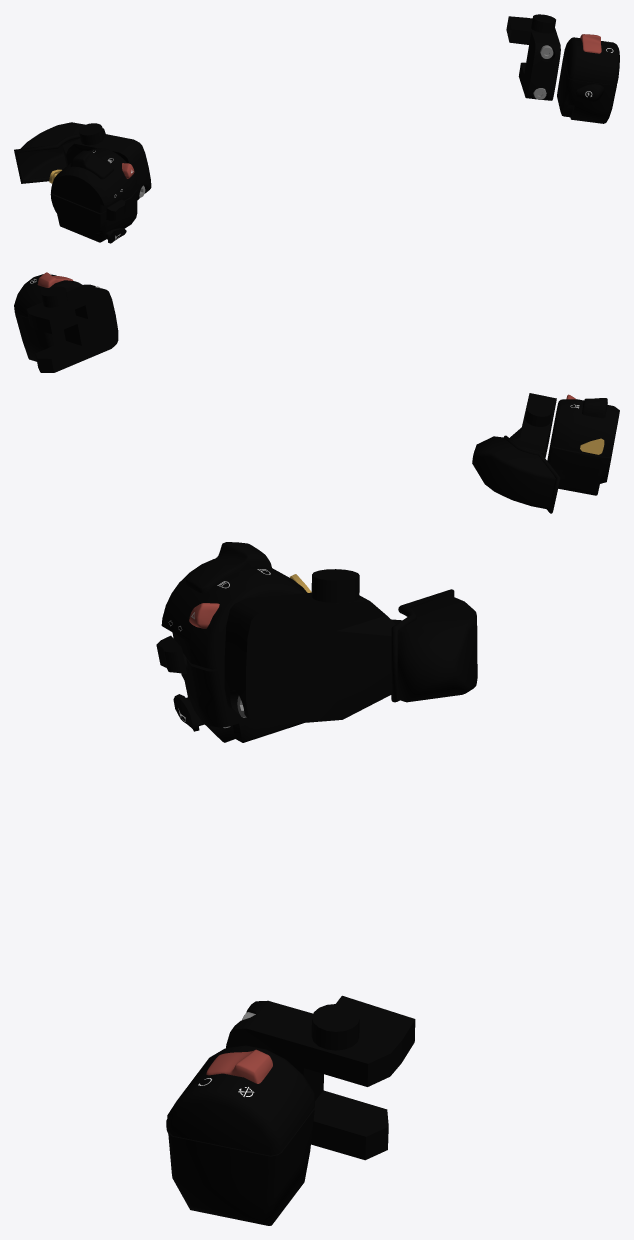
File: SwitchAssemb_BOSS.glb
The picture shows the model from 3 angles, top to bottom: view 1: azimuth 30°, elevation 25°; view 2: azimuth 150°, elevation 25°; view 3: azimuth 270°, elevation 25°; orthographic projection. The views are drawn at different scales.
Parts seen in each view (by area): view 1: ControlBody_R_ALMN.001, ClusterFrame_R_ALMN.001, ControlAssem_LT_ALMN.001, ClutchCover.001, ClusterFrame_L_ALMN.001, ControlAssem_LB_ALMN.001, HeadlightButton.001; view 2: ClusterFrame_R_ALMN.001, ClutchCover.001, ControlAssem_LT_ALMN.001, ControlBody_R_ALMN.001, ControlAssem_LB_ALMN.001, ClusterFrame_L_ALMN.001, HeadlightButton.001; view 3: ClusterFrame_L_ALMN.001, ControlBody_R_ALMN.001, ClusterFrame_R_ALMN.001, ClutchCover.001, ControlAssem_LT_ALMN.001, ControlAssem_LB_ALMN.001, HeadlightButton.001.
Boxes of the visible parts, <box> form: ControlBody_R_ALMN.001: <box>557,34,619,123</box>; ClusterFrame_R_ALMN.001: <box>506,14,560,100</box>; ControlAssem_LT_ALMN.001: <box>51,148,137,213</box>; ClutchCover.001: <box>14,122,105,183</box>; ClusterFrame_L_ALMN.001: <box>62,123,151,200</box>; ControlAssem_LB_ALMN.001: <box>50,189,137,242</box>; HeadlightButton.001: <box>70,150,113,179</box>; ClusterFrame_R_ALMN.001: <box>26,284,118,372</box>; ClutchCover.001: <box>472,435,560,513</box>; ControlAssem_LT_ALMN.001: <box>550,399,619,456</box>; ControlBody_R_ALMN.001: <box>14,272,82,361</box>; ControlAssem_LB_ALMN.001: <box>547,442,614,495</box>; ClusterFrame_L_ALMN.001: <box>510,393,556,457</box>; HeadlightButton.001: <box>582,398,607,418</box>; ClusterFrame_L_ALMN.001: <box>224,569,401,725</box>; ControlBody_R_ALMN.001: <box>166,1045,314,1225</box>; ClusterFrame_R_ALMN.001: <box>226,995,415,1160</box>; ClutchCover.001: <box>391,589,477,702</box>; ControlAssem_LT_ALMN.001: <box>161,559,307,668</box>; ControlAssem_LB_ALMN.001: <box>181,653,303,742</box>; HeadlightButton.001: <box>185,542,272,593</box>.
Size of the model in its own units: 0.5884 by 0.0873 by 0.1462.
